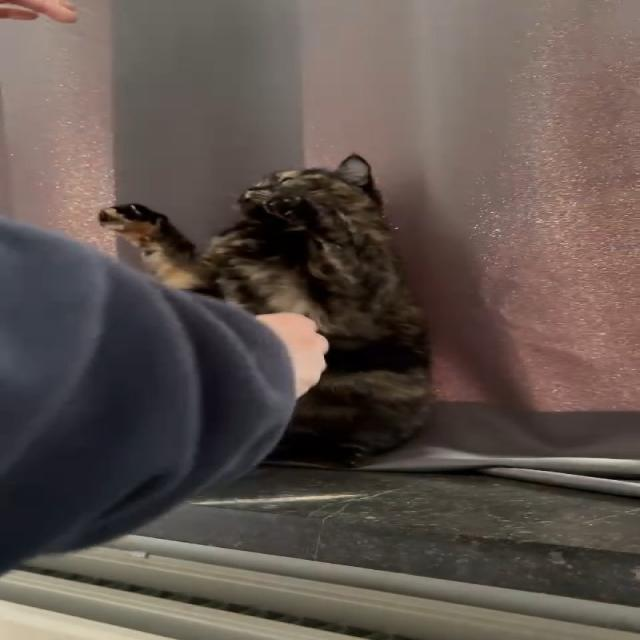authorized: (97, 152, 435, 468)
